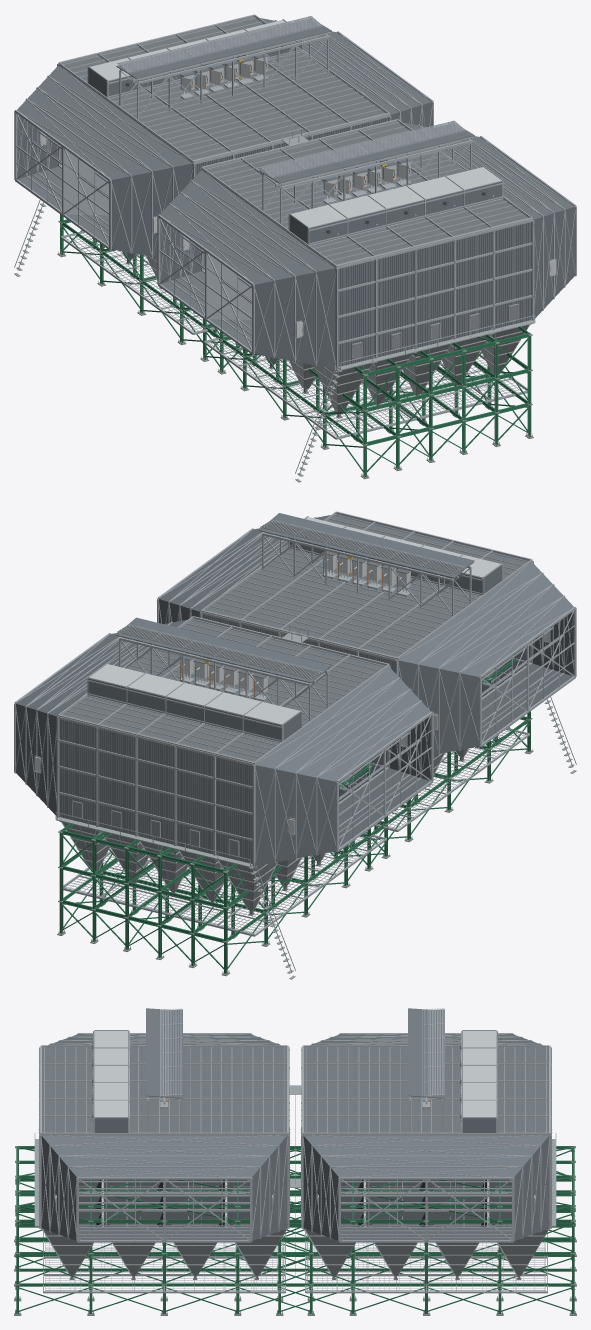
The model's file is esp-two-chamber-assembled.glb.
3 views of the same model, one above another, from view 1: azimuth 30°, elevation 25°; view 2: azimuth 150°, elevation 25°; view 3: azimuth 270°, elevation 25° (orthographic). The views are drawn at different scales.
Parts seen in each view (by area): view 1: STAGE_06_HORN (×2), STAGE_05_CASING (×2), STAGE_11_CANOPY (×2), STAGE_12_INSULATION (×2), STAGE_03_STEEL (×2), STAGE_11_PLATFORM (×2), STAGE_04_HOPPER, STAGE_02_FOUNDATION_BEAM (×3), STAGE_11_SERVICE_ACCESS; view 2: STAGE_06_HORN (×2), STAGE_05_CASING (×2), STAGE_11_CANOPY (×2), STAGE_12_INSULATION (×2), STAGE_03_STEEL (×2), STAGE_11_PLATFORM (×2), STAGE_04_HOPPER (×2), STAGE_02_FOUNDATION_BEAM (×3), STAGE_11_SERVICE_ACCESS; view 3: STAGE_06_HORN (×2), STAGE_05_CASING (×2), STAGE_04_HOPPER (×2), STAGE_02_FOUNDATION_BEAM (×2), STAGE_11_PLATFORM (×2), STAGE_03_STEEL (×2), STAGE_12_INSULATION (×2), STAGE_11_CANOPY (×2), STAGE_11_SERVICE_ACCESS.
Part boxes in pixels (bbox=[...]): STAGE_06_HORN (×2): bbox=[14, 18, 576, 368]; STAGE_05_CASING (×2): bbox=[57, 14, 534, 370]; STAGE_11_CANOPY (×2): bbox=[116, 16, 474, 223]; STAGE_12_INSULATION (×2): bbox=[87, 19, 503, 245]; STAGE_03_STEEL (×2): bbox=[58, 214, 532, 476]; STAGE_11_PLATFORM (×2): bbox=[61, 231, 527, 439]; STAGE_04_HOPPER: bbox=[204, 269, 531, 418]; STAGE_02_FOUNDATION_BEAM (×3): bbox=[62, 221, 529, 445]; STAGE_11_SERVICE_ACCESS: bbox=[14, 129, 535, 482]; STAGE_06_HORN (×2): bbox=[14, 515, 576, 867]; STAGE_05_CASING (×2): bbox=[56, 511, 533, 867]; STAGE_11_CANOPY (×2): bbox=[116, 513, 474, 720]; STAGE_12_INSULATION (×2): bbox=[87, 516, 503, 742]; STAGE_03_STEEL (×2): bbox=[58, 677, 532, 973]; STAGE_11_PLATFORM (×2): bbox=[63, 728, 529, 936]; STAGE_04_HOPPER (×2): bbox=[59, 657, 530, 915]; STAGE_02_FOUNDATION_BEAM (×3): bbox=[61, 658, 528, 942]; STAGE_11_SERVICE_ACCESS: bbox=[55, 626, 576, 979]; STAGE_06_HORN (×2): bbox=[40, 1033, 550, 1242]; STAGE_05_CASING (×2): bbox=[38, 1045, 552, 1229]; STAGE_04_HOPPER (×2): bbox=[42, 1179, 548, 1279]; STAGE_02_FOUNDATION_BEAM (×2): bbox=[17, 1146, 573, 1286]; STAGE_11_PLATFORM (×2): bbox=[43, 1211, 547, 1293]; STAGE_03_STEEL (×2): bbox=[15, 1146, 575, 1314]; STAGE_12_INSULATION (×2): bbox=[92, 1030, 497, 1132]; STAGE_11_CANOPY (×2): bbox=[146, 1008, 444, 1132]; STAGE_11_SERVICE_ACCESS: bbox=[34, 1079, 556, 1275].
Size of the model in its own units: 51.65 by 37.74 by 84.95.
